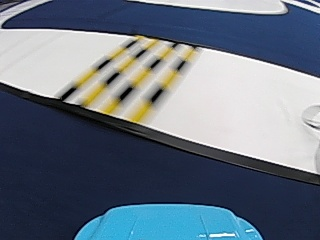bump: (56, 33, 200, 115)
